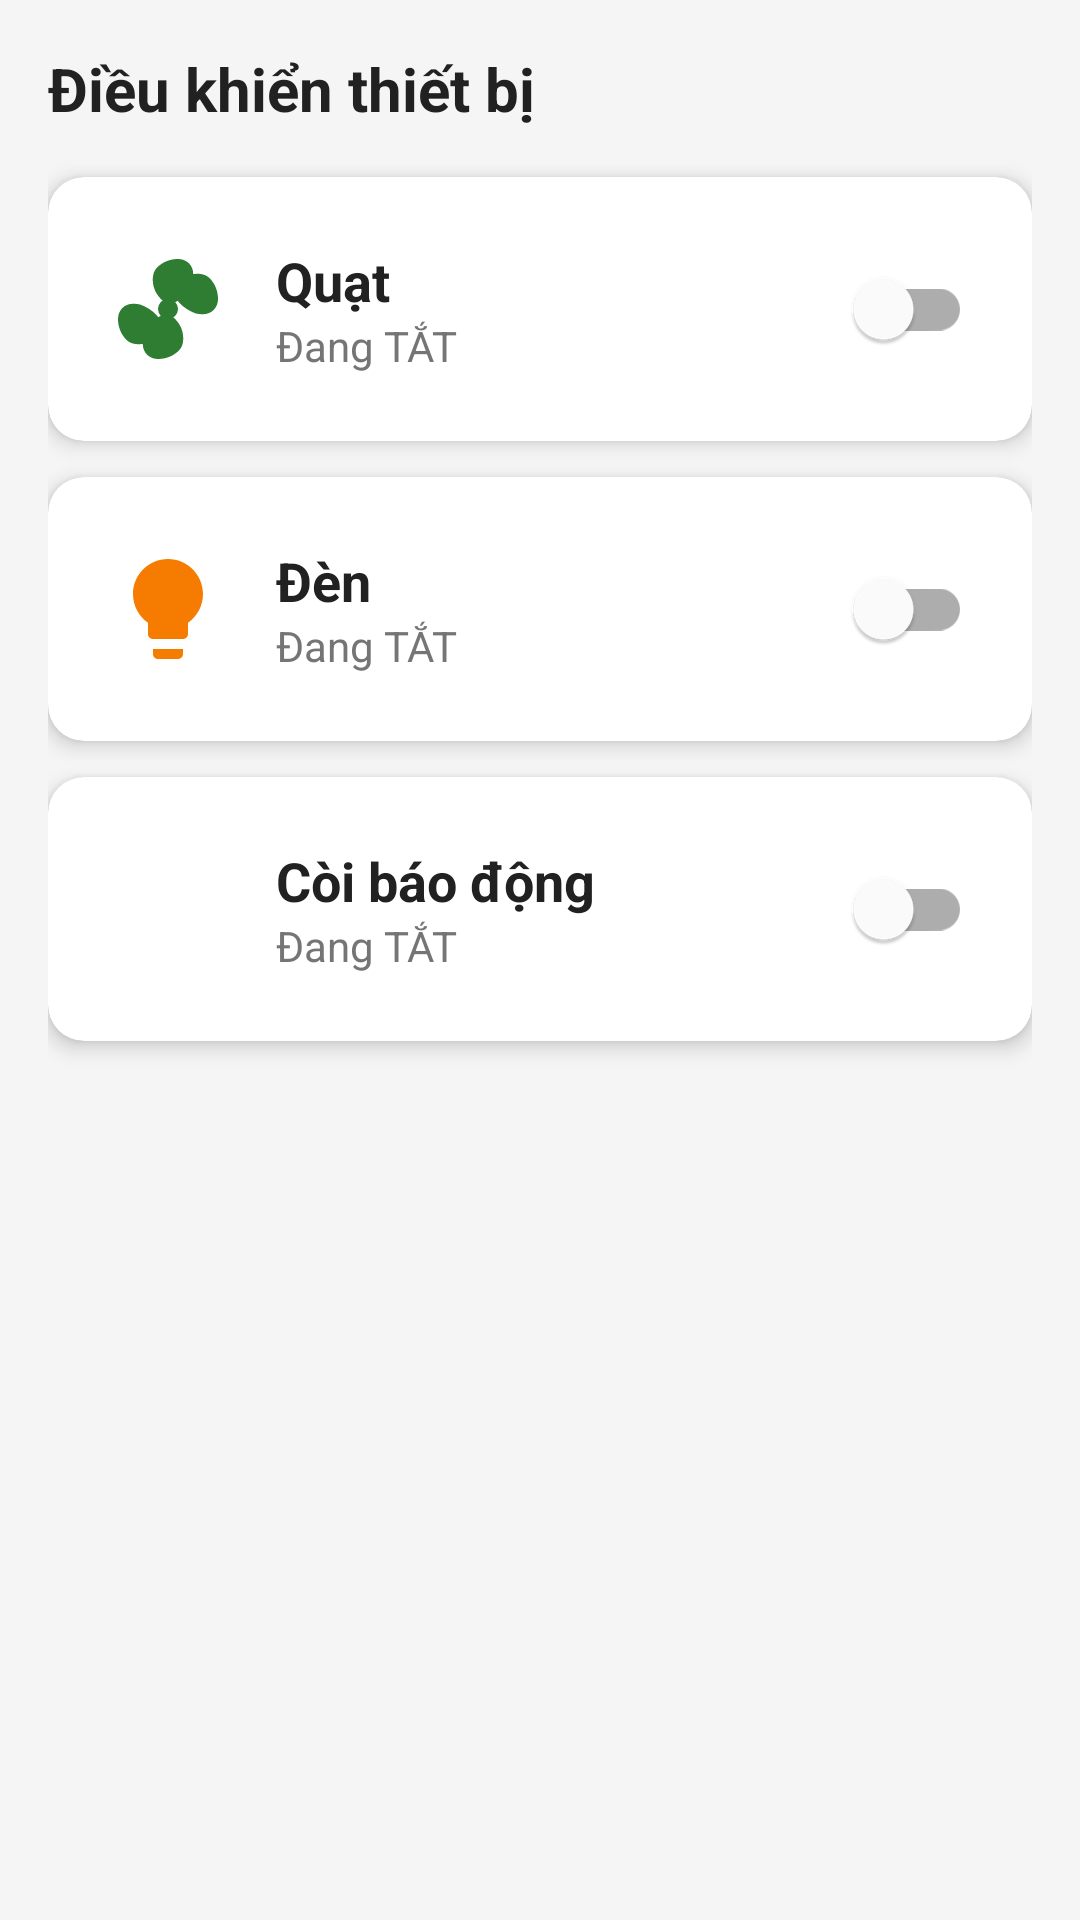

Icons on this 1080 × 1920 Android screen, each with the point to tap as [x,y]:
Fan: [168,309]
Light: [168,609]
